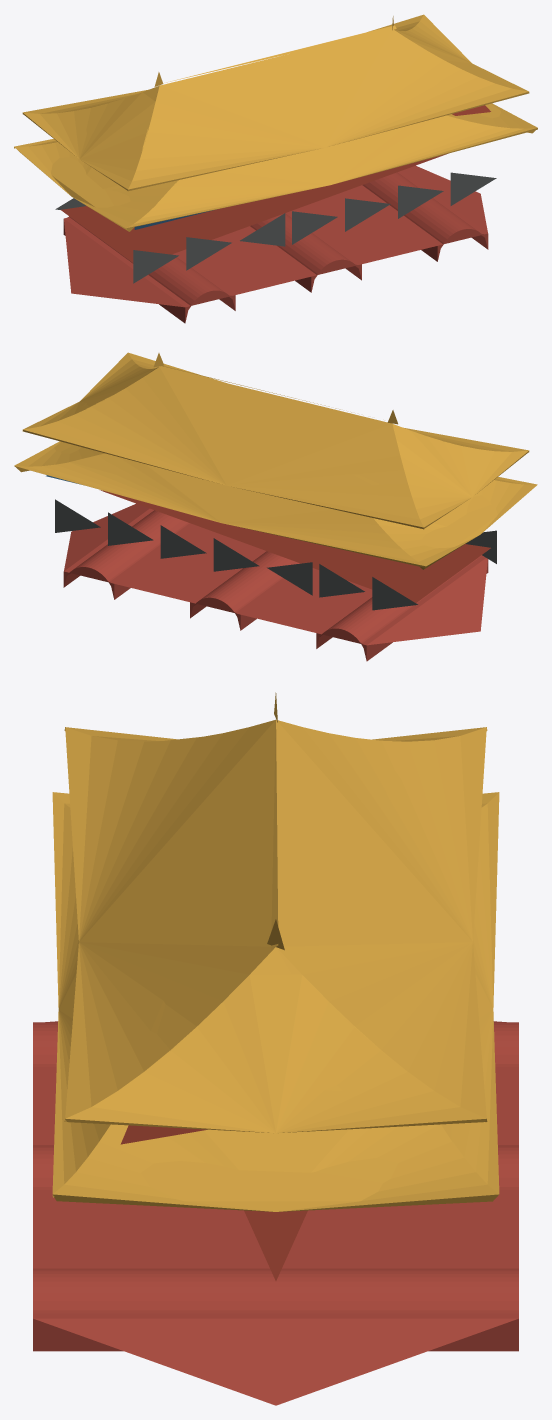
The model's file is taihemen-far-d7b214ee4c.glb.
3 views of the same model, one above another, from view 1: azimuth 30°, elevation 25°; view 2: azimuth 150°, elevation 25°; view 3: azimuth 270°, elevation 25° (orthographic). The views are drawn at different scales.
Visible parts, largest first — view 1: taihemen coarse.001; view 2: taihemen coarse.001; view 3: taihemen coarse.001.
Part boxes in pixels (x1,y1,x2,y2): taihemen coarse.001: [14, 14, 537, 323]; taihemen coarse.001: [14, 352, 537, 661]; taihemen coarse.001: [33, 692, 518, 1405].
Size of the model in its own units: 49 by 23.8 by 25.
